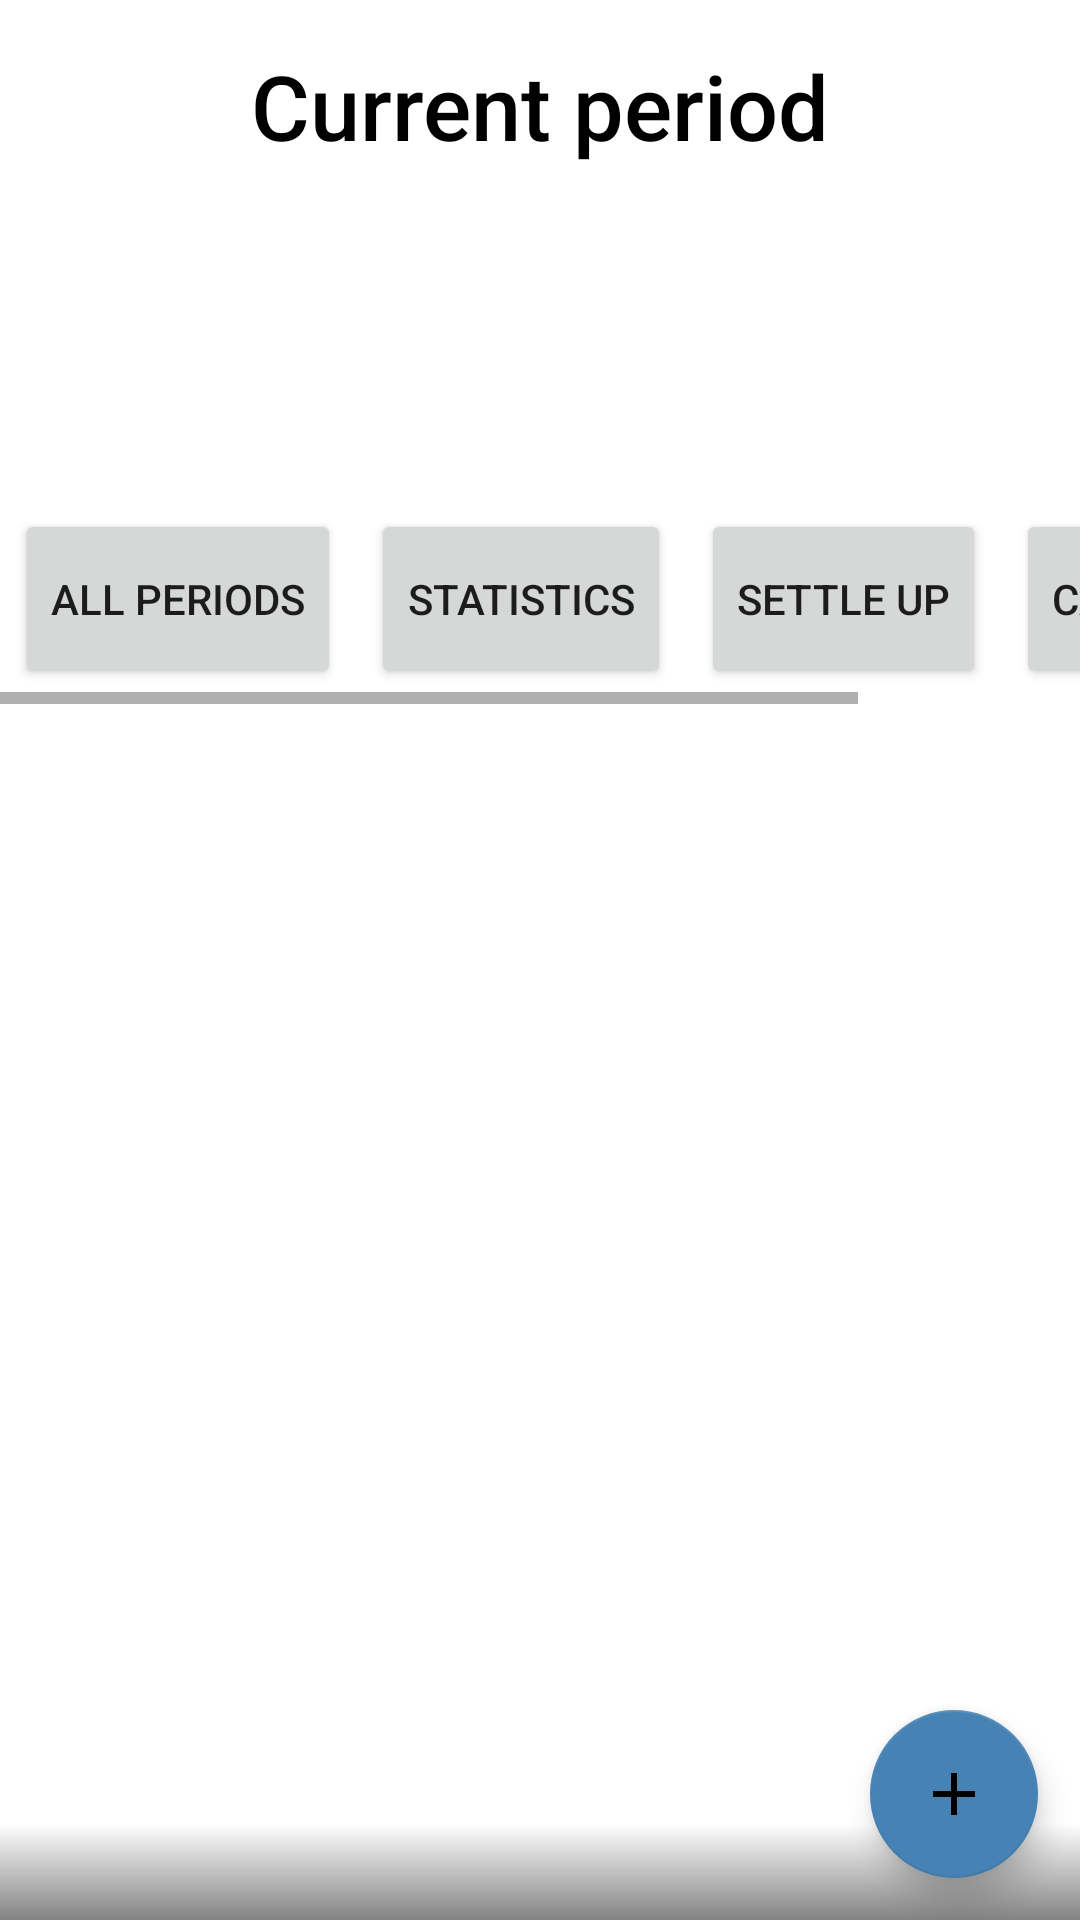

Screen size 1080px×1920px. Icon name, then its center in pixels as (x=x, y=y):
Add expense: (x=954, y=1794)
